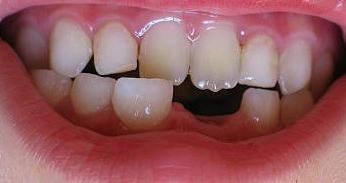Hypodontia: (168, 89, 251, 121)
